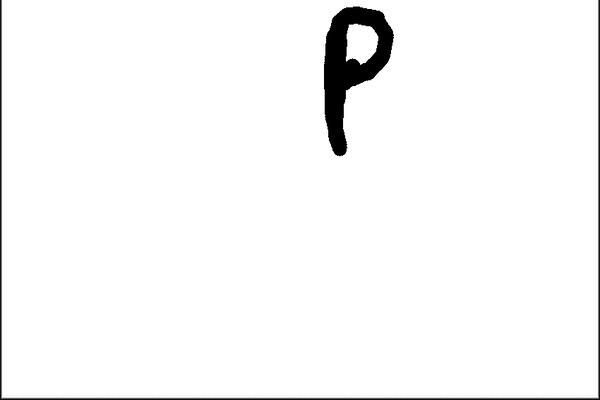P: (307, 4, 403, 156)
